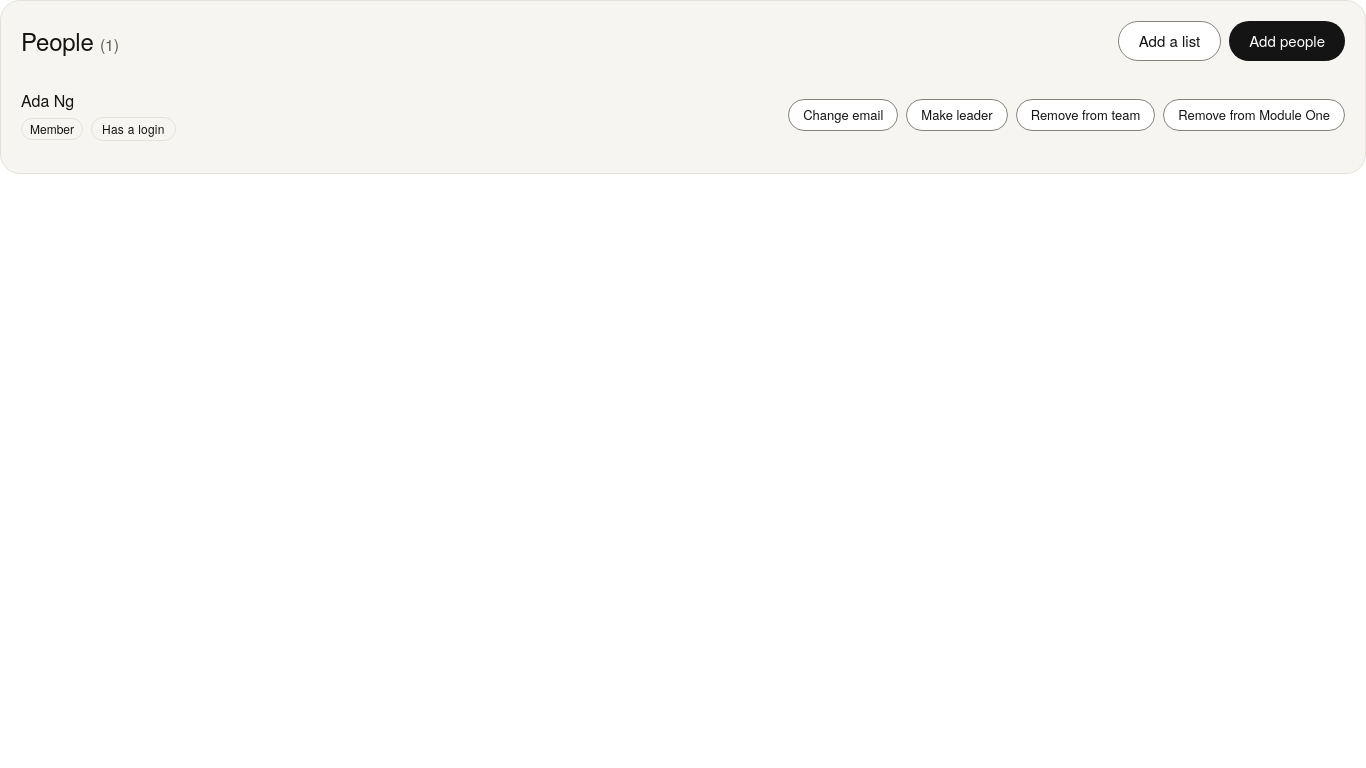
Test case: PeopleSection: Remove from Module One › says what removing did (deleted, having nothing recorded)
What coordinates should you click on to do the following:
click the button "Remove from Module One"
I would click on:
 (1254, 115)
Its box is [1163,99,1345,131].
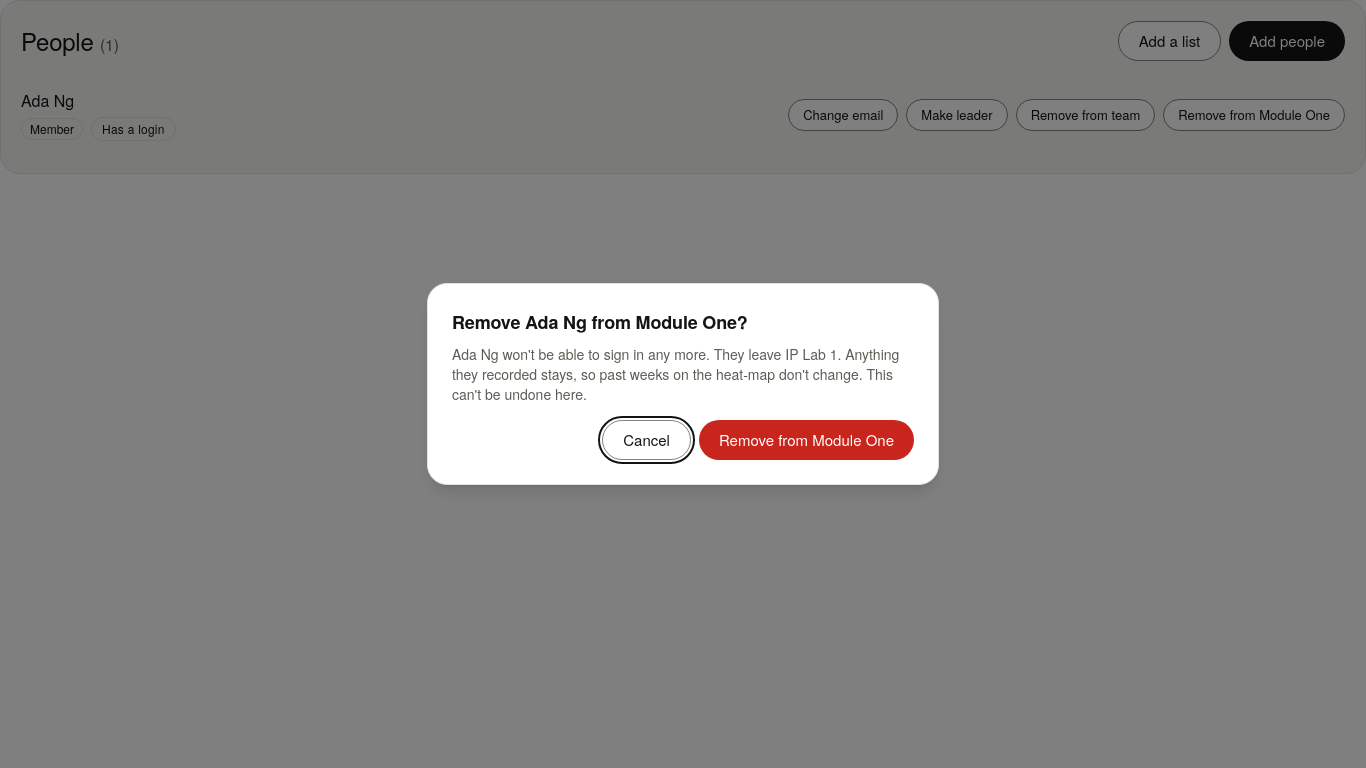
What coordinates should you click on to do the following:
click the button "Remove from Module One"
I would click on:
 (806, 440)
Its box is [699,420,914,460].
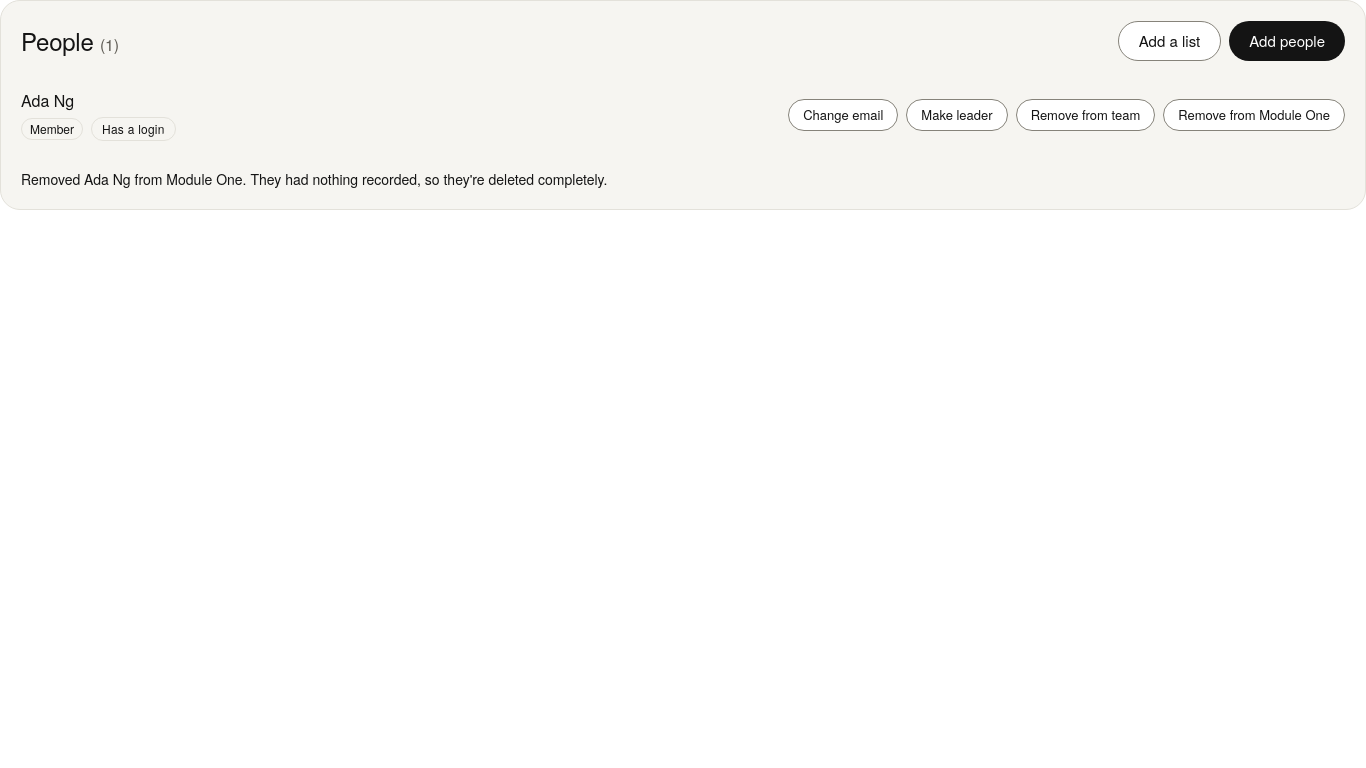
Now the message shows "Removed Ada Ng from Module One. They had nothing recorded, so they're deleted completely.", box [21,169,608,189]
